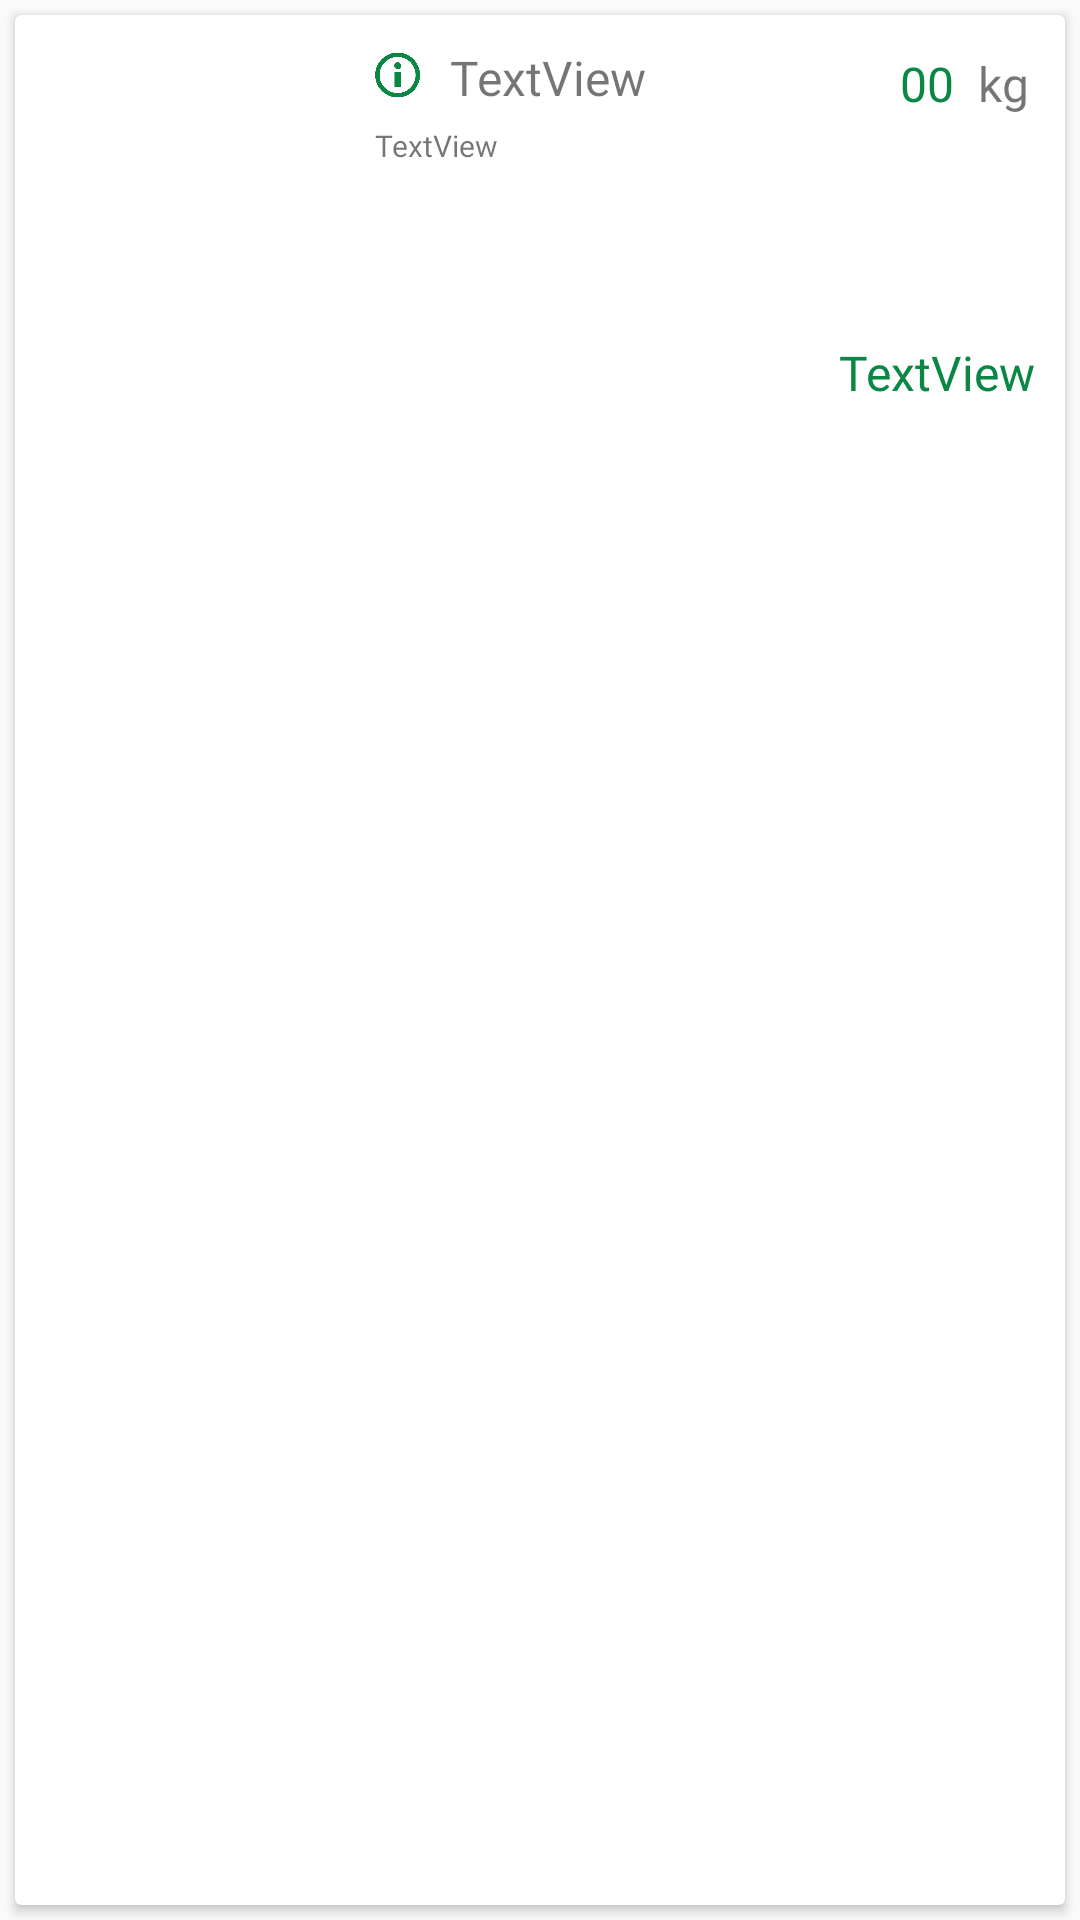

Locate icon controls on the screen. Image size 1080×1920, boxes as detection(x1, y1, x2, y2).
about: detection(375, 53, 420, 97)
